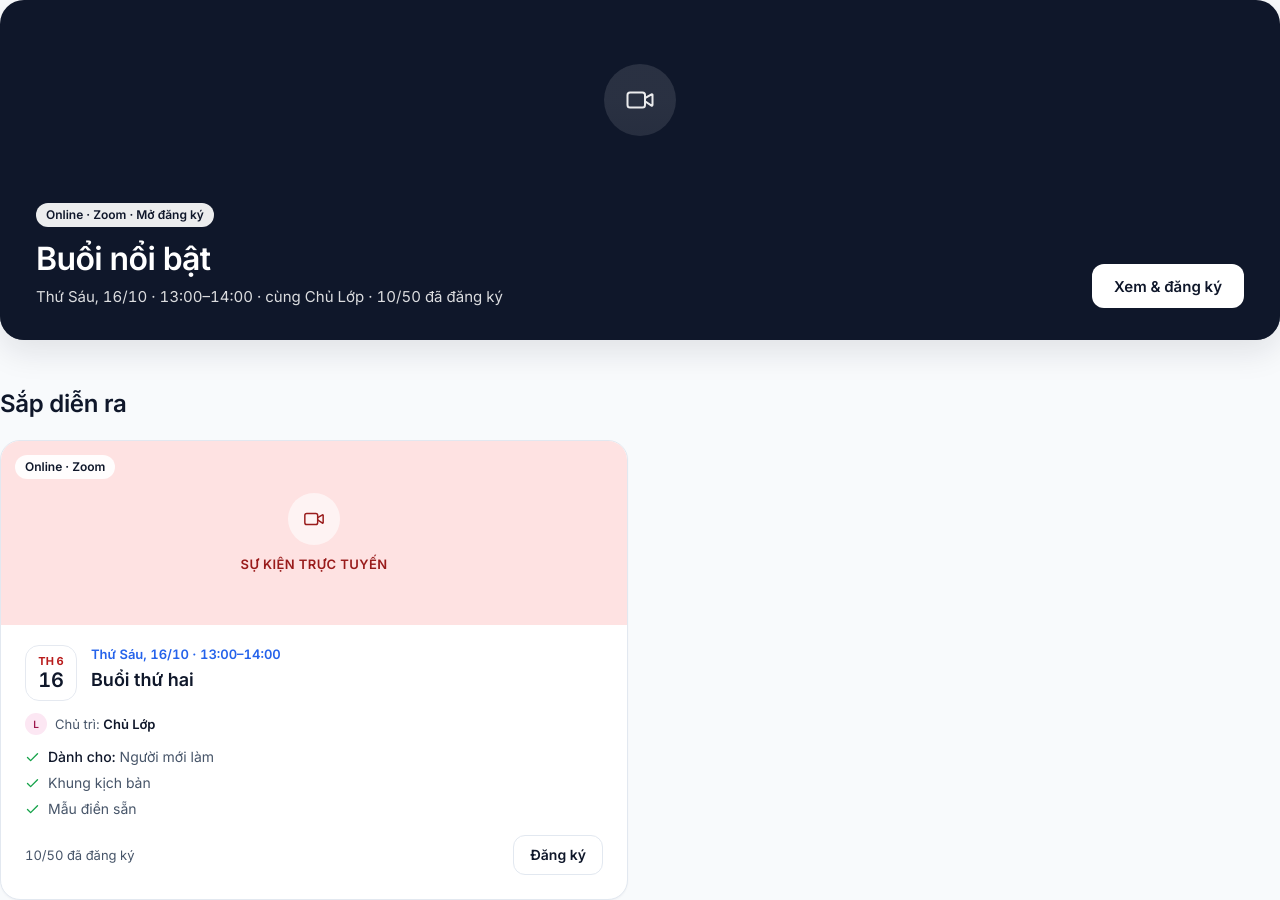
Scenario: EventsTab › registers after the confirmation dialog and flips the card to "Đã đăng ký"
(page scrolled)
Click the button with aria-label "Đăng ký Buổi thứ hai".
click(558, 855)  # box [513,835,603,875]
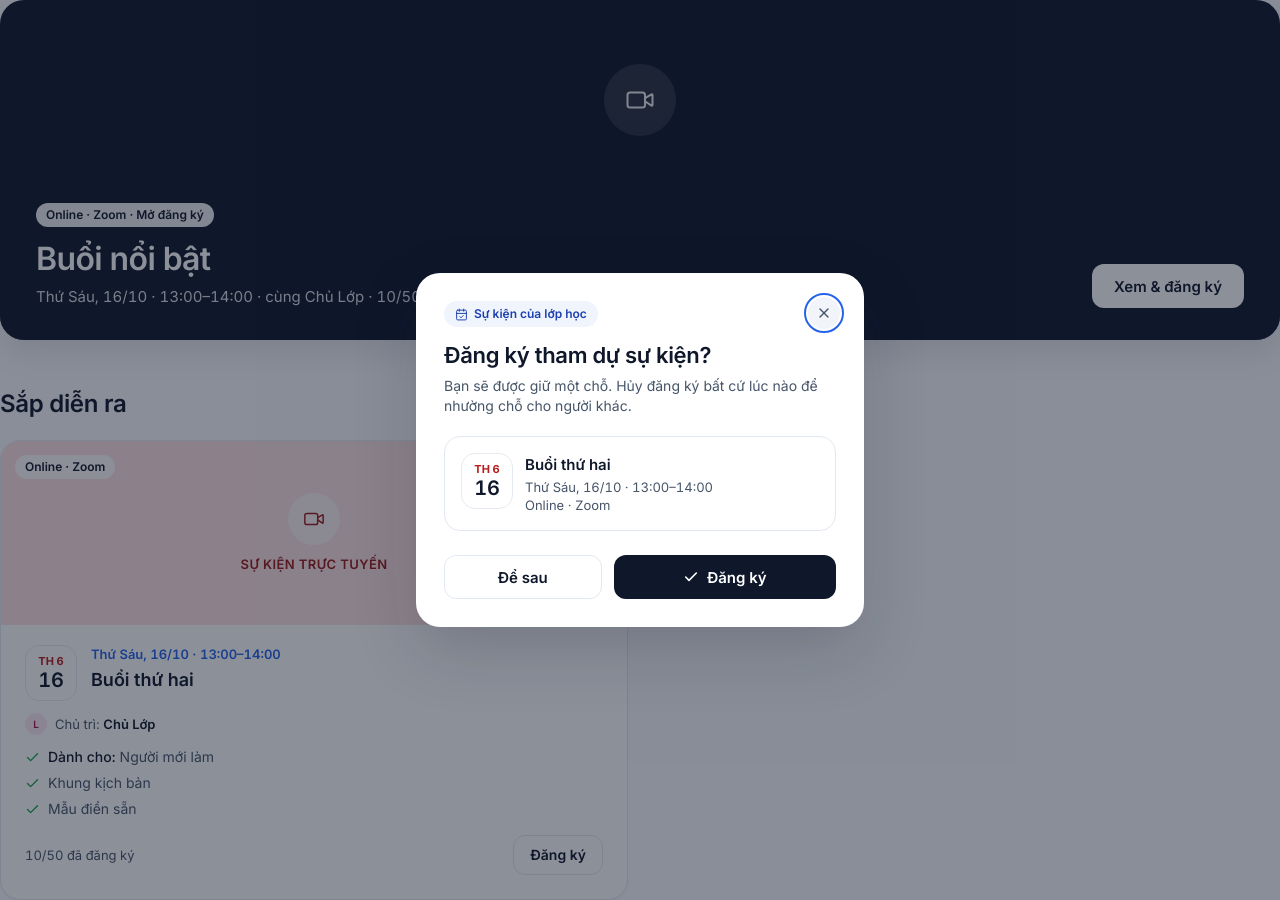
Result: the text "Buổi thứ hai" is shown at [525,455,611,474]
Click the button "Đăng ký".
click(725, 577)  # box [614,555,836,599]
(page scrolled)
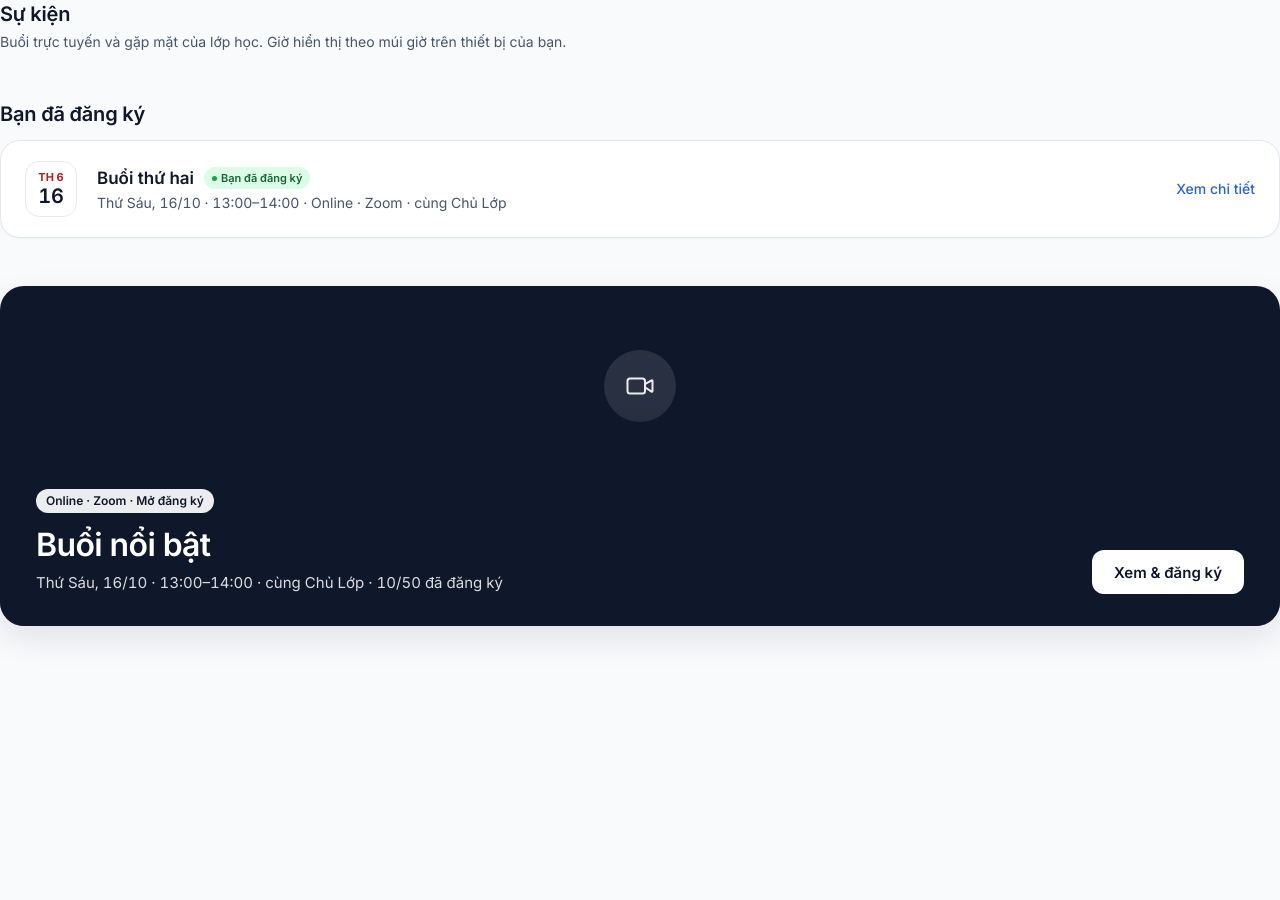
Expected: the link "Buổi thứ hai" is shown, [97,168,194,188]
Result: the dialog is gone
